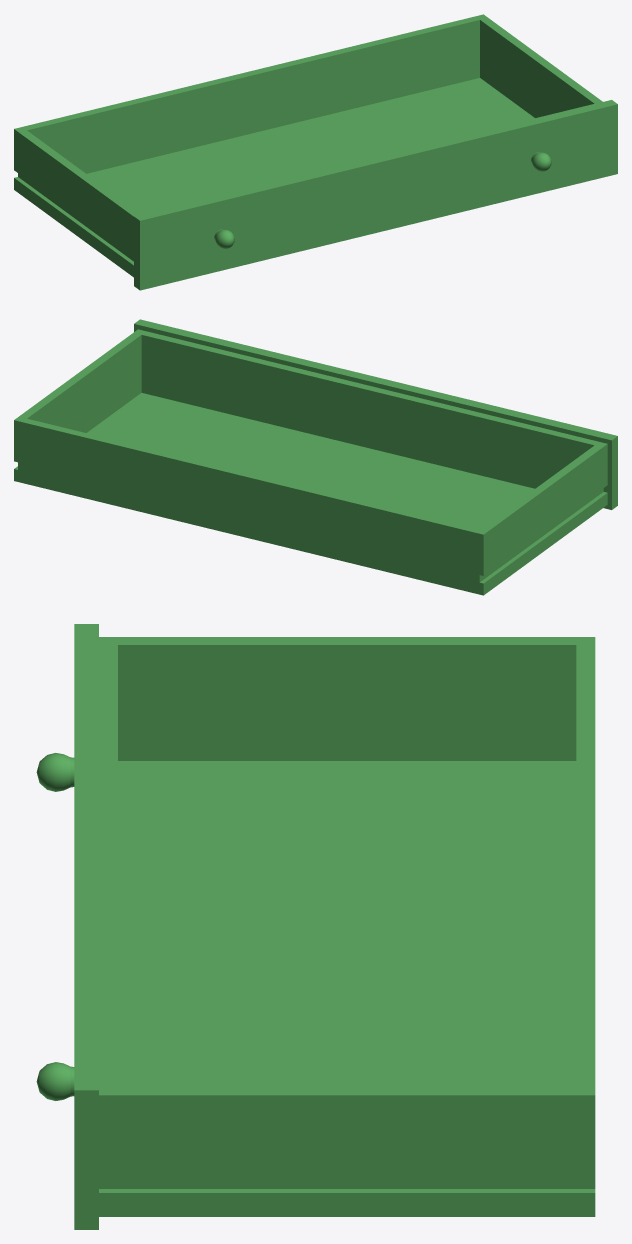
File: SM_VanityDresser_01e.fbx
The picture shows the model from 3 angles, top to bottom: view 1: azimuth 30°, elevation 25°; view 2: azimuth 150°, elevation 25°; view 3: azimuth 270°, elevation 25°; orthographic projection. The views are drawn at different scales.
Parts seen in each view (by area): view 1: SM_VanityDresser_01e; view 2: SM_VanityDresser_01e; view 3: SM_VanityDresser_01e.
Boxes of the visible parts, box(x1,y1,x2,y2) form: SM_VanityDresser_01e: box(14, 14, 617, 290); SM_VanityDresser_01e: box(14, 319, 617, 595); SM_VanityDresser_01e: box(36, 624, 595, 1229).
Bounding box in the file's own units: 2.62 × 0.3656 × 1.33.
